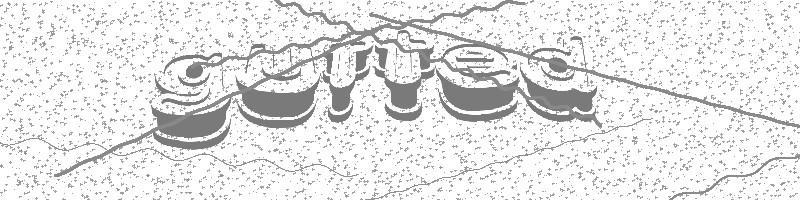d: (518, 34, 606, 127)
e: (434, 39, 525, 124)
g: (141, 49, 238, 151)
t: (371, 28, 438, 125), (318, 27, 372, 125)
u: (237, 33, 320, 136)
